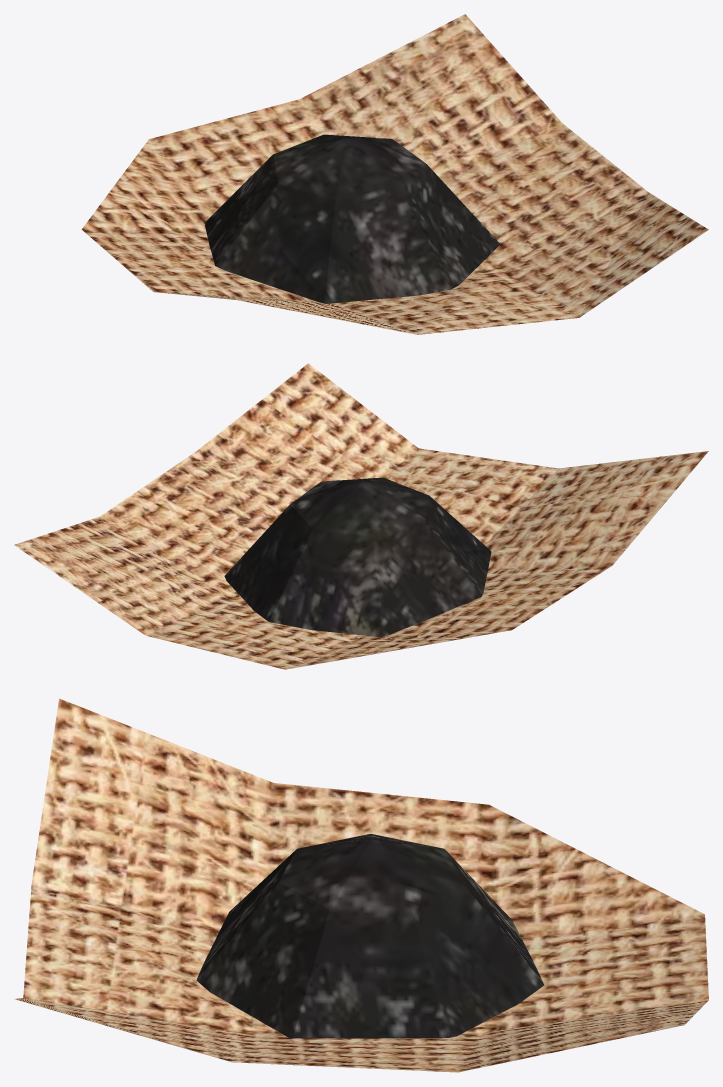
Rendered from ITAC_KOHLEPULVER.glb.
The picture shows the model from 3 angles, top to bottom: view 1: azimuth 30°, elevation 25°; view 2: azimuth 150°, elevation 25°; view 3: azimuth 270°, elevation 25°; orthographic projection. The views are drawn at different scales.
Visible parts, largest first — view 1: ITAC_KOHLEPULVER; view 2: ITAC_KOHLEPULVER; view 3: ITAC_KOHLEPULVER.
Part boxes in pixels (x1,y1,x2,y2): ITAC_KOHLEPULVER: [82, 14, 708, 334]; ITAC_KOHLEPULVER: [14, 363, 708, 669]; ITAC_KOHLEPULVER: [14, 698, 708, 1072].
Size of the model in its own units: 0.6524 by 0.1517 by 0.6613.
2 materials, 2 textured.
